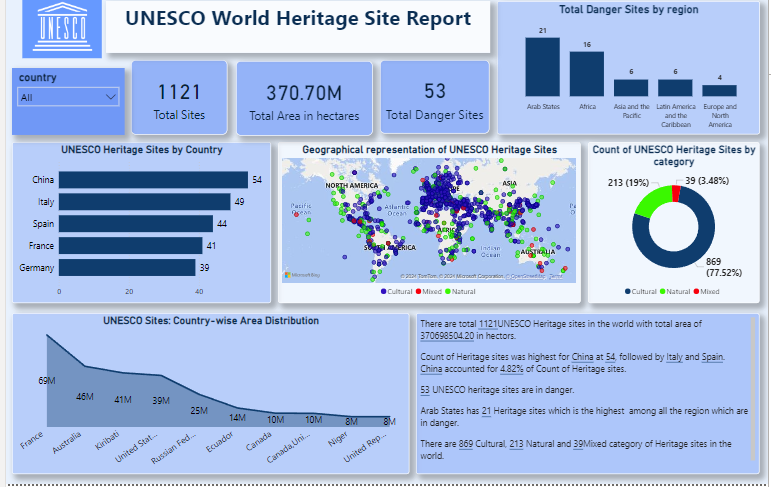

The page's visual inventory and layout, read from the dashboard file:
{"tool":"powerbi","page":{"name":" Report","canvas":[1400,900],"ordinal":2},"visuals":[{"type":"barChart","title":"UNESCO Heritage Sites by Country","fields":{"Category":["sites inscribed properties XLS.country_name"],"Y":["CountNonNull(sites inscribed properties XLS.category)"]},"box":[11,272.6,475.6,296.3],"z":0},{"type":"card","fields":{"Values":["CountNonNull(sites inscribed properties XLS.name_en)"]},"box":[230.5,120.7,177.4,137.2],"z":1000},{"type":"map","title":"Geographical representation of UNESCO Heritage Sites","fields":{"Category":["sites inscribed properties XLS.location"],"Series":["sites inscribed properties XLS.category"]},"box":[499.4,272.6,556.1,296.3],"z":2000},{"type":"stackedAreaChart","title":"UNESCO Sites: Country-wise Area Distribution","fields":{"Category":["sites inscribed properties XLS.country_name"],"Y":["Sum(sites inscribed properties XLS.area_hectares)"]},"box":[11,585.4,729.9,296.3],"z":3000},{"type":"columnChart","title":"Total Danger Sites by region","fields":{"Y":["sites inscribed properties XLS.Total Danger Sites"],"Category":["sites inscribed properties XLS.region_en"]},"box":[901.8,12.8,482.9,245.1],"z":4000},{"type":"image","box":[0,0,206.7,122.6],"z":5000},{"type":"donutChart","title":"Count of UNESCO Heritage Sites by category","fields":{"Category":["sites inscribed properties XLS.category"],"Y":["CountNonNull(sites inscribed properties XLS.country_name)"]},"box":[1070.1,272.6,314.6,296.3],"z":6000},{"type":"card","fields":{"Values":["sites inscribed properties XLS.Total Danger Sites"]},"box":[687.8,120.7,201.2,135.4],"z":7000},{"type":"card","fields":{"Values":["sites inscribed properties XLS.Total Area in hectares"]},"box":[422.6,122.6,250.6,137.2],"z":8000},{"type":"textbox","box":[182.9,12.8,706.1,95.1],"z":9000},{"type":"textbox","box":[753.7,585.4,631.1,296.3],"z":10000},{"type":"slicer","fields":{"Values":["sites inscribed properties XLS.country_name"]},"box":[11,135.4,206.7,122.6],"z":11000}]}

Visuals, with their boxes in screenshot pixels (x1, y1, x2, y2), scaled from the page's 1400x900 canvas onto the 771x487 screenshot:
"UNESCO Heritage Sites by Country" barChart: (left=6, top=148, right=268, bottom=308)
card - CountNonNull(sites inscribed properties XLS.name_en): (left=127, top=65, right=225, bottom=140)
"Geographical representation of UNESCO Heritage Sites" map: (left=275, top=148, right=581, bottom=308)
"UNESCO Sites: Country-wise Area Distribution" stackedAreaChart: (left=6, top=317, right=408, bottom=477)
"Total Danger Sites by region" columnChart: (left=497, top=7, right=763, bottom=140)
image: (left=0, top=0, right=114, bottom=66)
"Count of UNESCO Heritage Sites by category" donutChart: (left=589, top=148, right=763, bottom=308)
card - sites inscribed properties XLS.Total Danger Sites: (left=379, top=65, right=490, bottom=139)
card - sites inscribed properties XLS.Total Area in hectares: (left=233, top=66, right=371, bottom=141)
textbox: (left=101, top=7, right=490, bottom=58)
textbox: (left=415, top=317, right=763, bottom=477)
slicer - sites inscribed properties XLS.country_name: (left=6, top=73, right=120, bottom=140)
